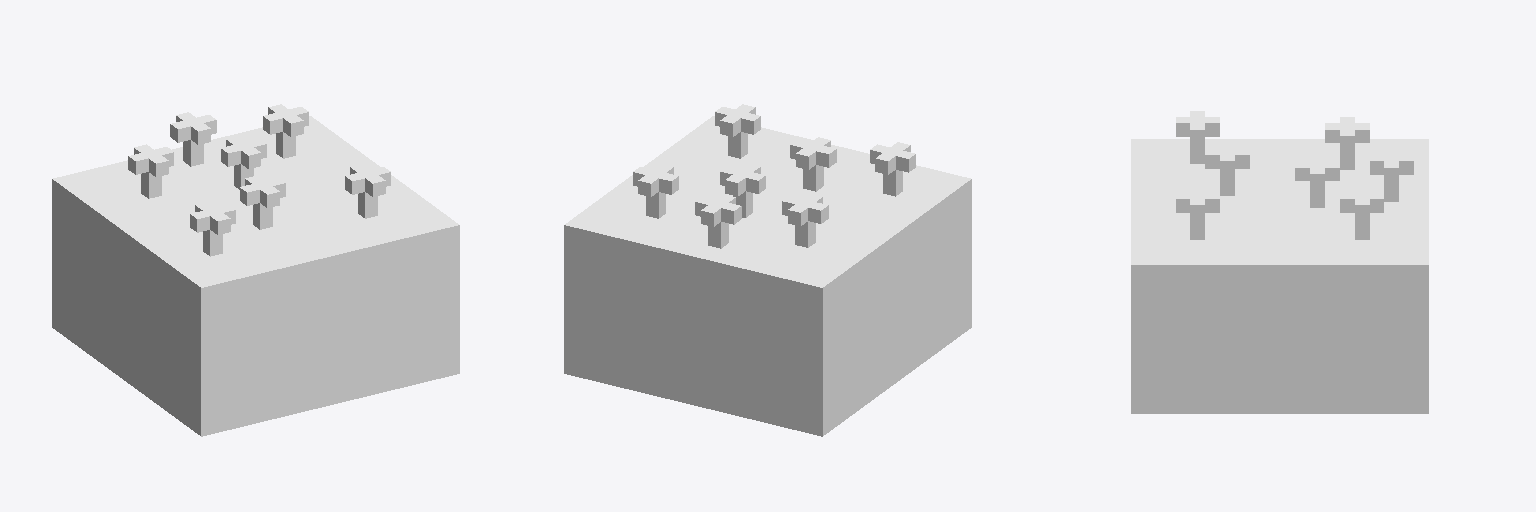
File: Red_Flower_Grass.obj
3 renders of one model, left to right at view 1: azimuth 30°, elevation 25°; view 2: azimuth 150°, elevation 25°; view 3: azimuth 270°, elevation 25°, orthographic.
Parts seen in each view (by area): view 1: Red_Flower_Grass; view 2: Red_Flower_Grass; view 3: Red_Flower_Grass.
Boxes of the visible parts, box(x1,y1,x2,y2) form: Red_Flower_Grass: box(52, 104, 459, 436); Red_Flower_Grass: box(564, 104, 971, 436); Red_Flower_Grass: box(1131, 111, 1428, 413).
Size of the model in its own units: 20 by 14 by 20.